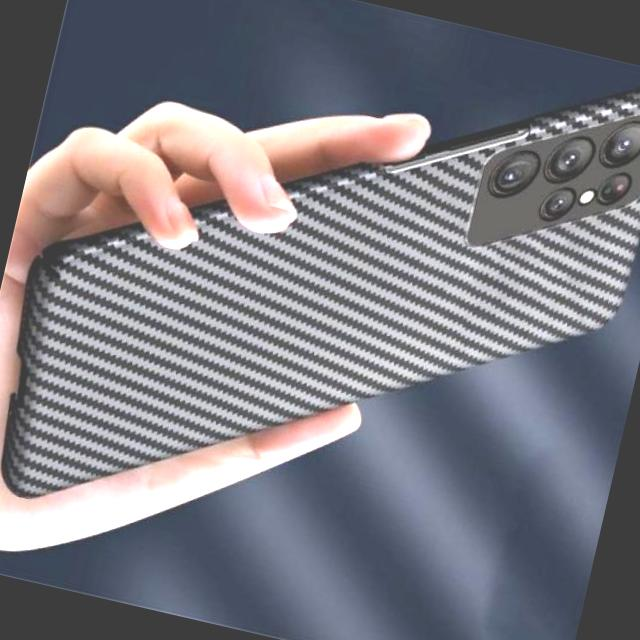lens_back: (536, 125, 600, 198), (482, 138, 544, 208), (589, 108, 640, 177)
phone: (0, 0, 640, 625)
